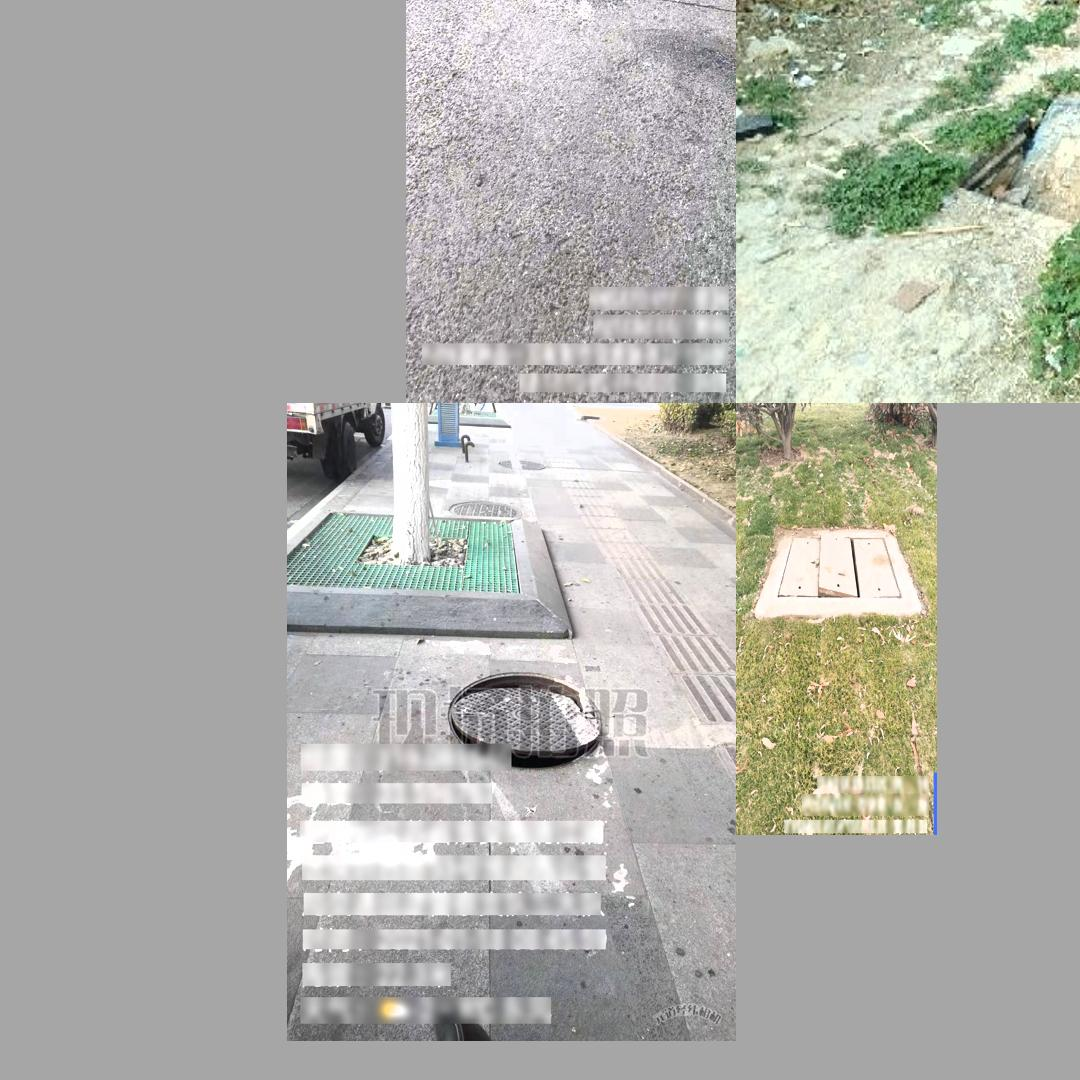uncovered: (957, 69, 1080, 263), (447, 671, 602, 769), (771, 531, 904, 602)
